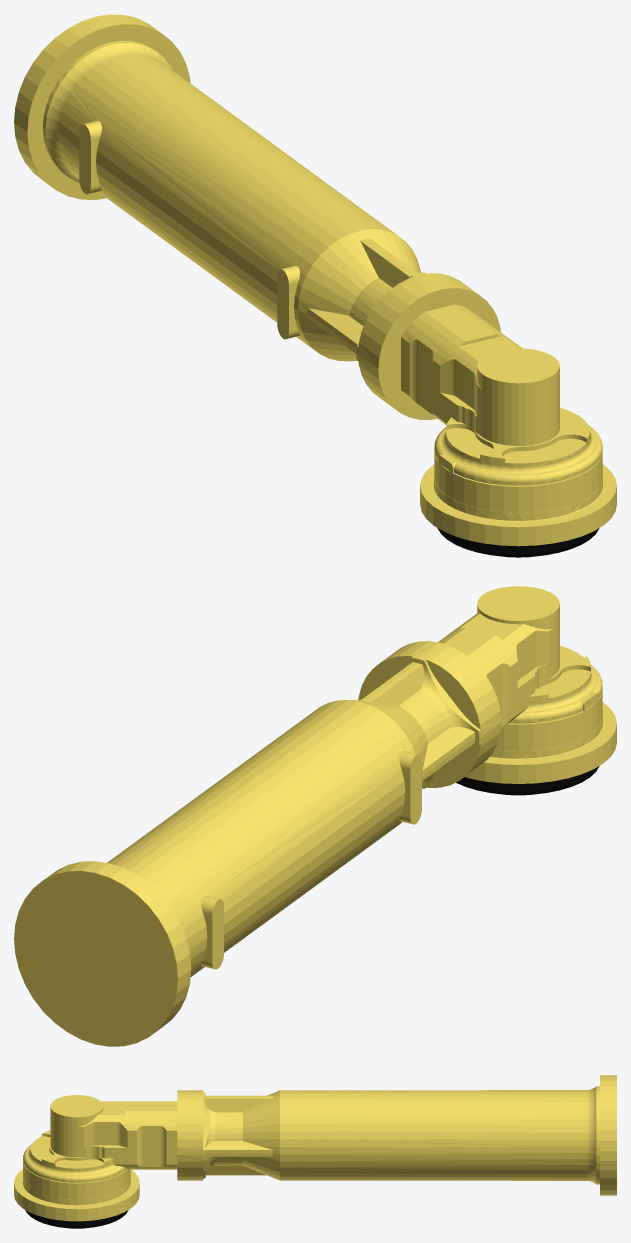
3 views of the same model, one above another, from view 1: azimuth 30°, elevation 25°; view 2: azimuth 150°, elevation 25°; view 3: azimuth 270°, elevation 25° (orthographic). The views are drawn at different scales.
Visible parts, largest first — view 1: /Link4/Link4_004-mesh/0, /Link4/Link4_004-mesh/1; view 2: /Link4/Link4_004-mesh/0, /Link4/Link4_004-mesh/1; view 3: /Link4/Link4_004-mesh/0, /Link4/Link4_004-mesh/1.
Boxes of the visible parts, x1,y1,x2,y2 form: /Link4/Link4_004-mesh/0: (14, 14, 616, 546); /Link4/Link4_004-mesh/1: (437, 528, 599, 557); /Link4/Link4_004-mesh/0: (14, 586, 616, 1046); /Link4/Link4_004-mesh/1: (456, 766, 599, 795); /Link4/Link4_004-mesh/0: (14, 1075, 616, 1221); /Link4/Link4_004-mesh/1: (25, 1210, 128, 1228).
Size of the model in its own units: 0.169 by 0.1942 by 0.81.
